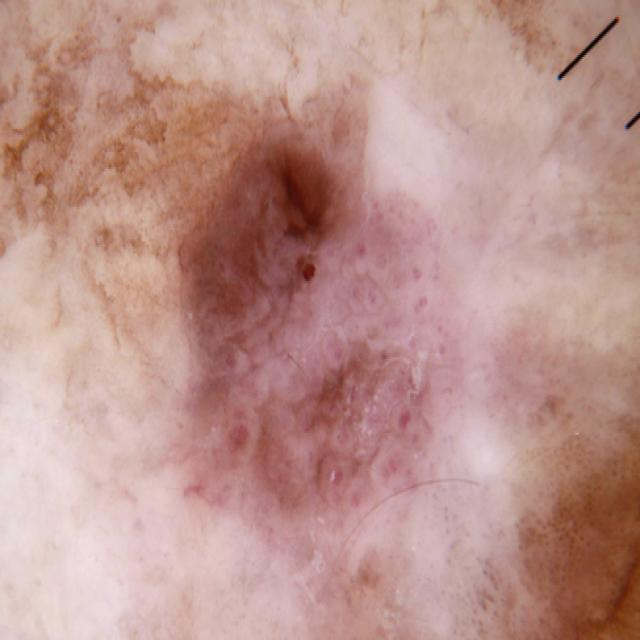Carcinoma: (133, 154, 471, 565), (495, 442, 640, 640)
